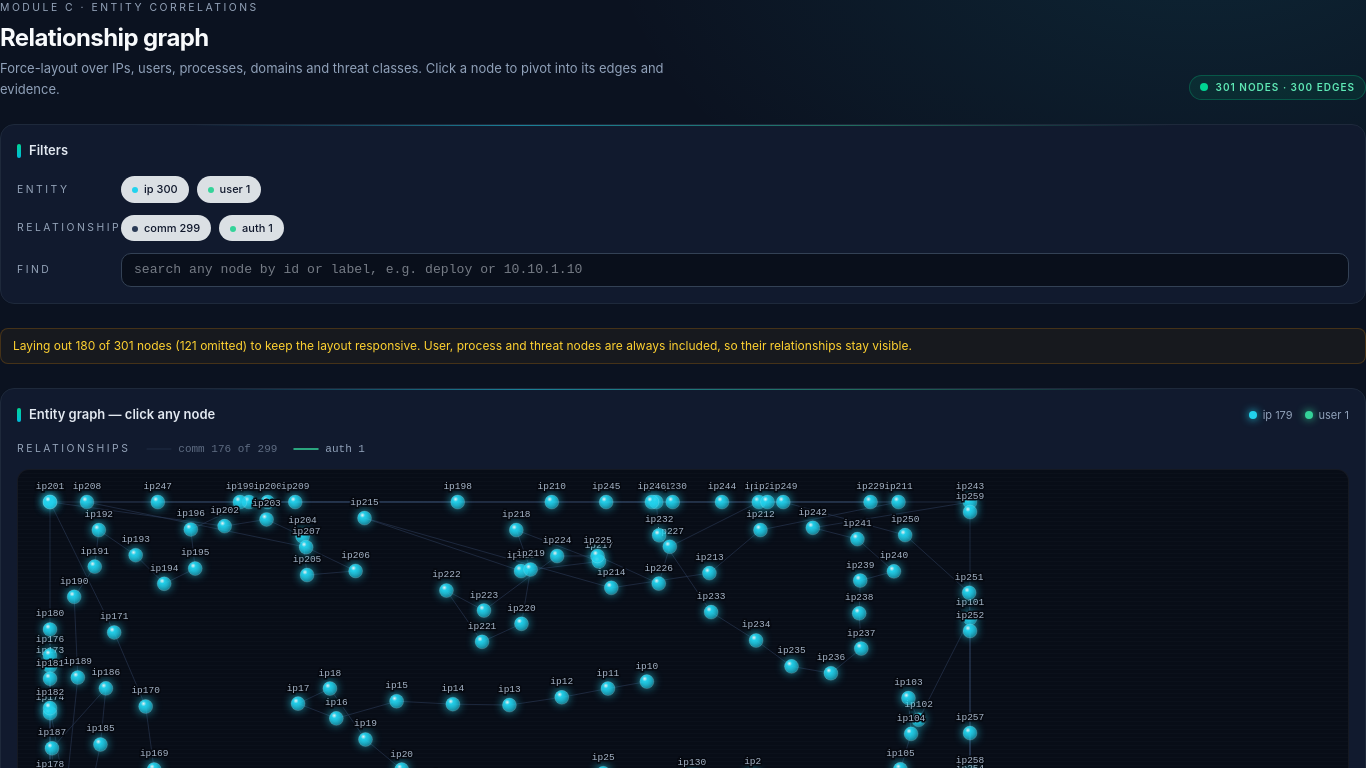
it: GraphPage filters › adds only one-hop context, not the whole graph
Expected: the heading "Relationship graph" is shown, [0,23,209,52]
Note: this fixture has no proc/domain/threat nodes, so no such chips render
Click the button "ip 300". click: coordinates (155, 190)
box: [121,176,189,203]
(page scrolled)
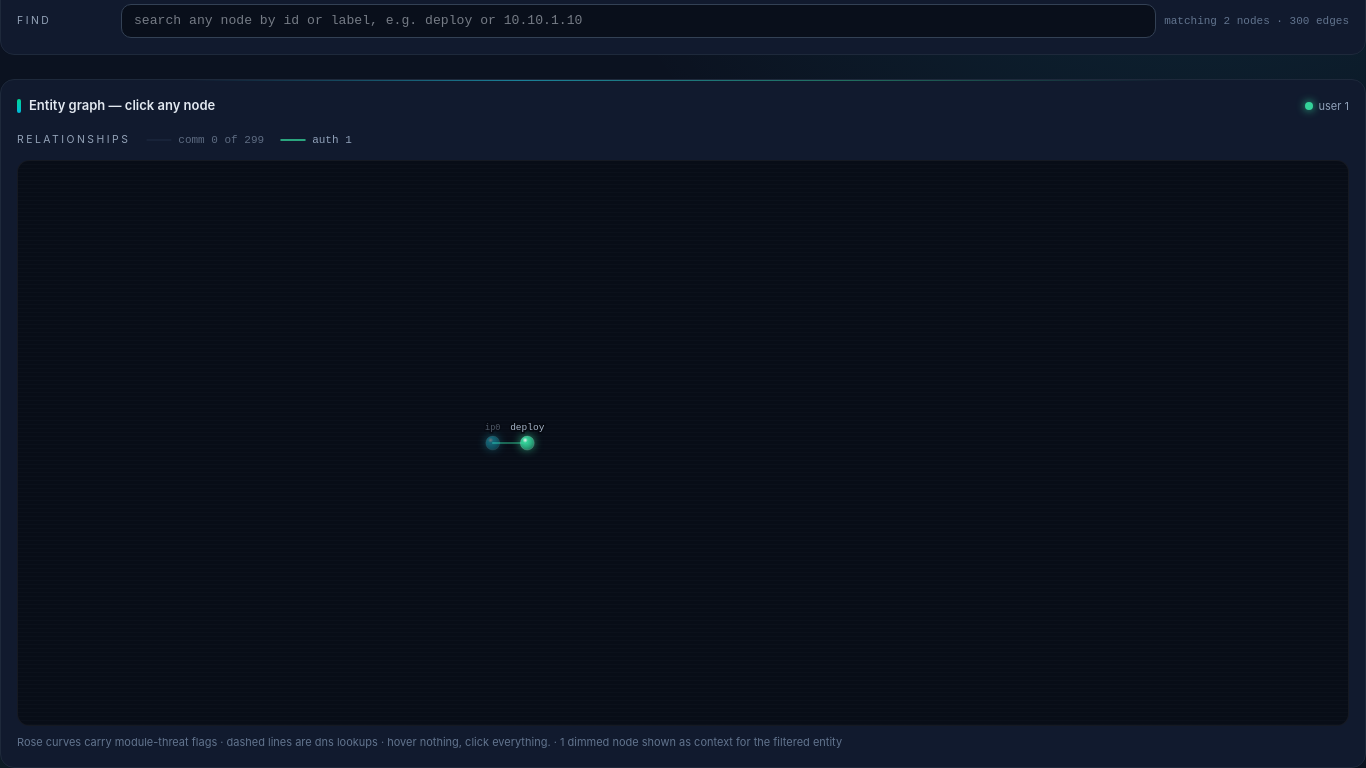
Now the text "matching 2 nodes" is shown, box [1164,13,1349,29]
Now the text "1 dimmed node" is shown, box [551,735,842,749]
